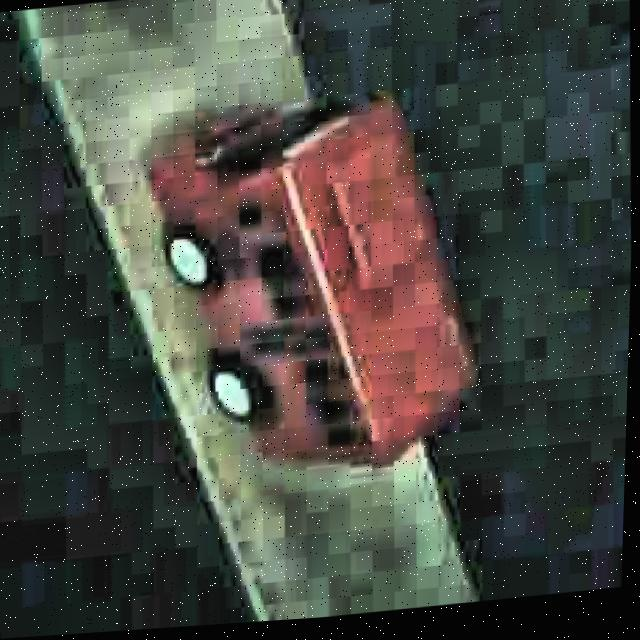bus: (131, 82, 497, 488)
